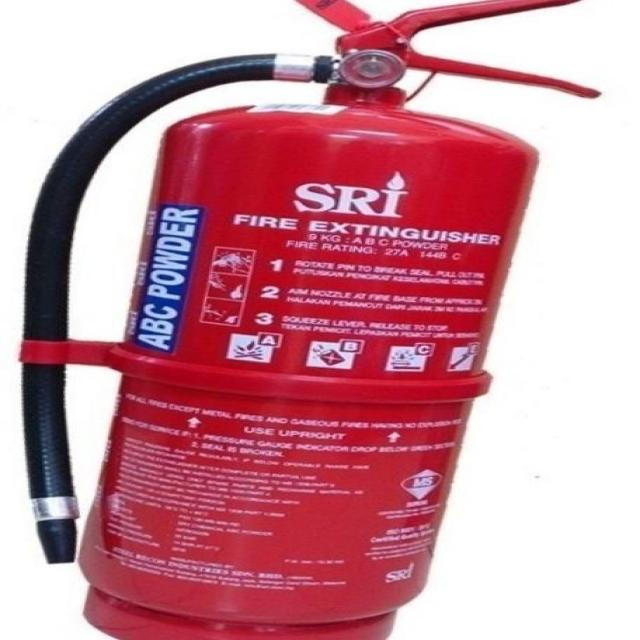fire_extinguisher: (8, 0, 606, 638)
